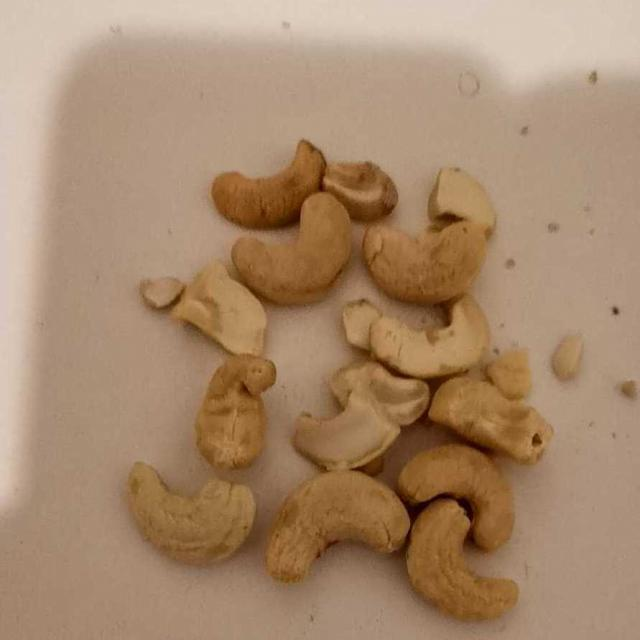cashew-nut: (132, 145, 551, 610)
